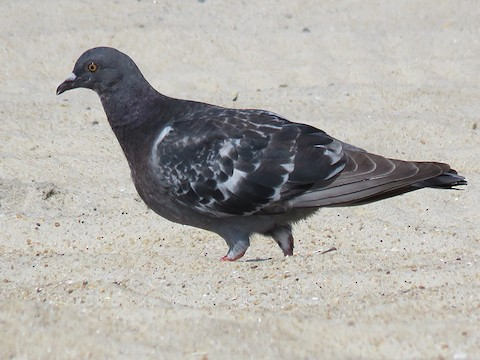pigeon: (50, 37, 470, 269)
